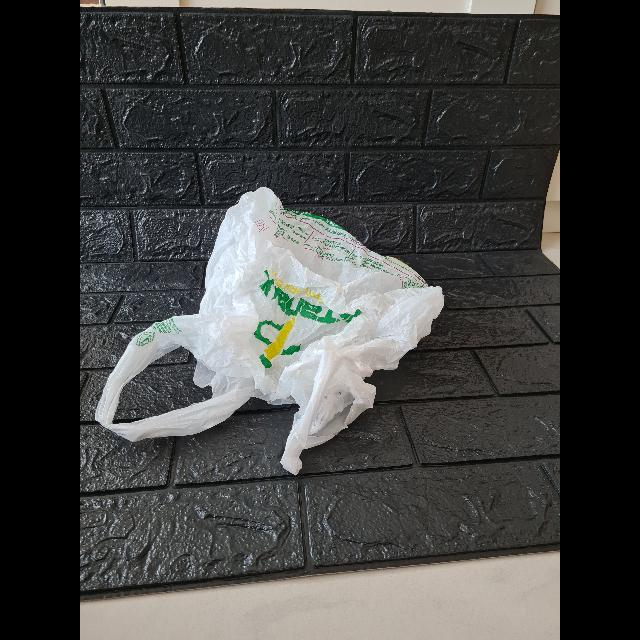plastic_bag: (96, 184, 452, 476)
